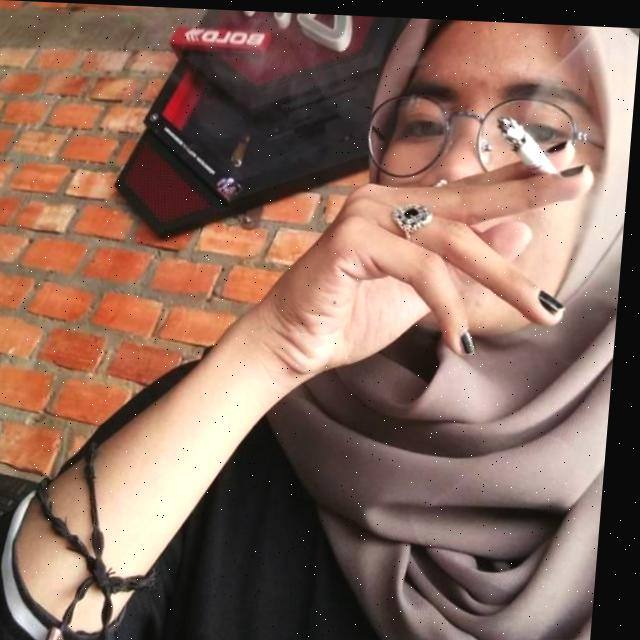cigarette: (495, 113, 563, 173)
